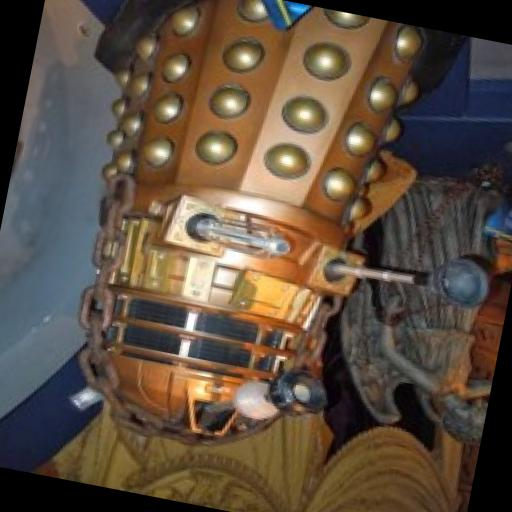dalek: (17, 0, 512, 503)
